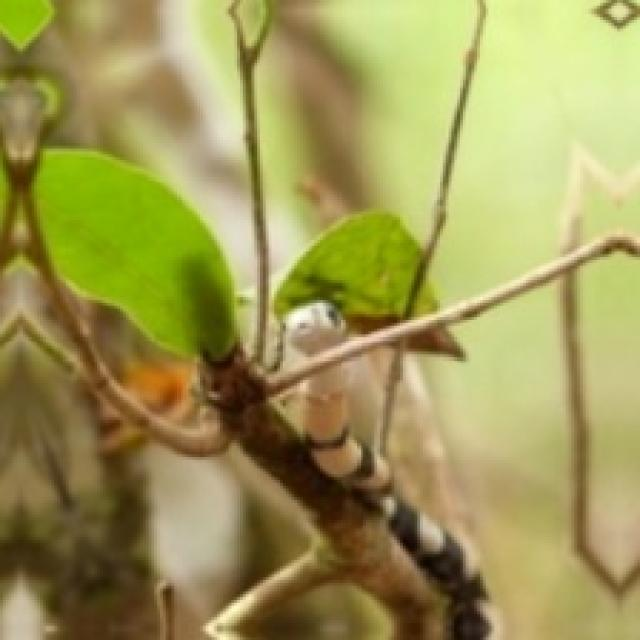king cobra: (303, 366, 489, 637)
